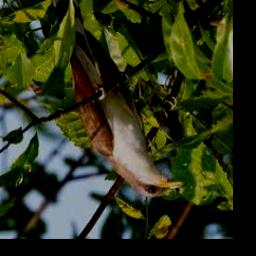Cuckoo: (46, 0, 183, 198)
